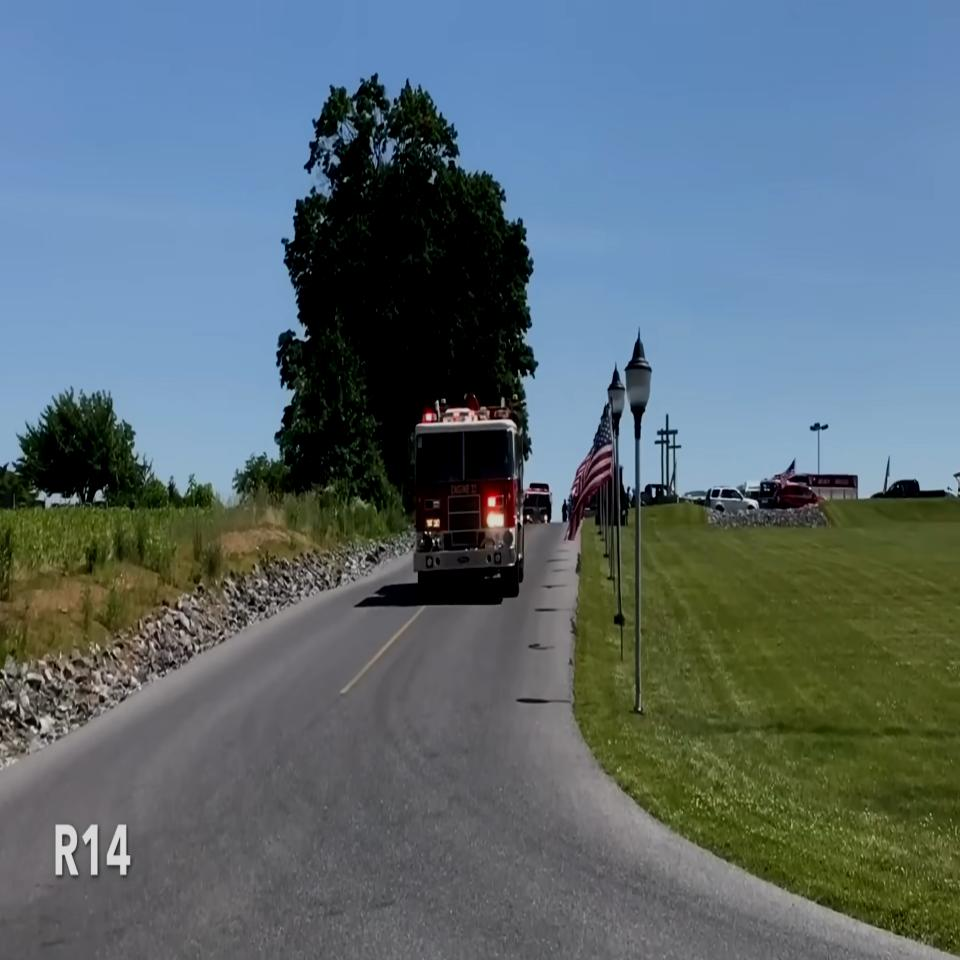bombeiro: (408, 397, 525, 596)
